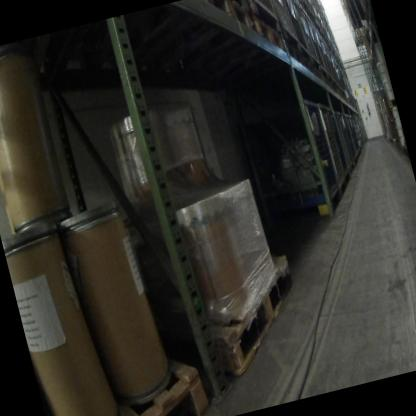pallet: (179, 237, 322, 385), (93, 354, 217, 416), (184, 0, 259, 56), (251, 7, 290, 64), (282, 38, 306, 75), (298, 51, 316, 80), (300, 0, 315, 26), (393, 137, 409, 159), (319, 70, 333, 93), (312, 61, 324, 85), (366, 51, 380, 70), (314, 19, 326, 41), (328, 81, 341, 101), (362, 7, 375, 25), (383, 96, 396, 113), (362, 0, 372, 12), (292, 0, 302, 10)
stillage: (242, 85, 347, 232), (318, 98, 350, 198), (282, 0, 315, 68), (326, 105, 353, 187), (268, 0, 303, 59), (293, 2, 322, 71), (303, 13, 329, 81), (249, 0, 284, 40), (312, 21, 332, 83), (336, 107, 357, 166), (319, 33, 337, 87), (343, 108, 360, 162), (322, 38, 340, 89), (348, 112, 362, 156), (308, 0, 321, 29), (223, 0, 250, 13), (296, 0, 311, 14)
